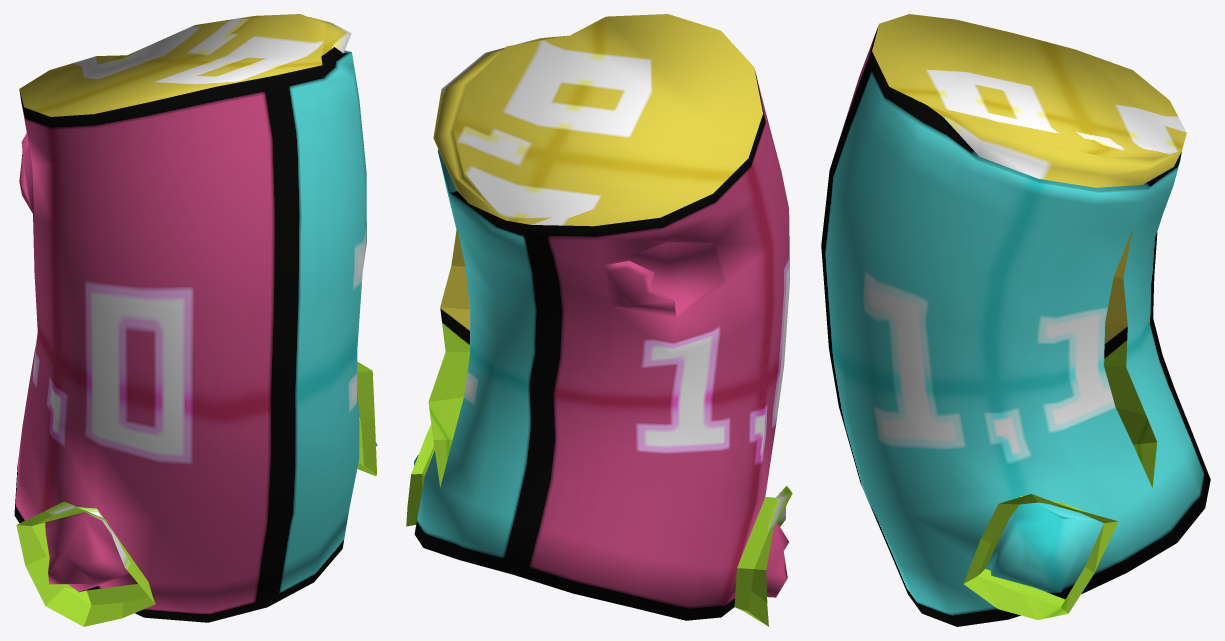
The model's file is punchbag.fbx.
The picture shows the model from 3 angles, left to right: view 1: azimuth 30°, elevation 25°; view 2: azimuth 150°, elevation 25°; view 3: azimuth 270°, elevation 25°; orthographic projection.
Visible parts, largest first — view 1: Cylinder; view 2: Cylinder; view 3: Cylinder.
Part boxes in pixels (bbox=[...]): Cylinder: bbox=[14, 14, 377, 626]; Cylinder: bbox=[406, 14, 792, 626]; Cylinder: bbox=[821, 14, 1210, 626].
Size of the model in its own units: 474 by 712 by 462.
